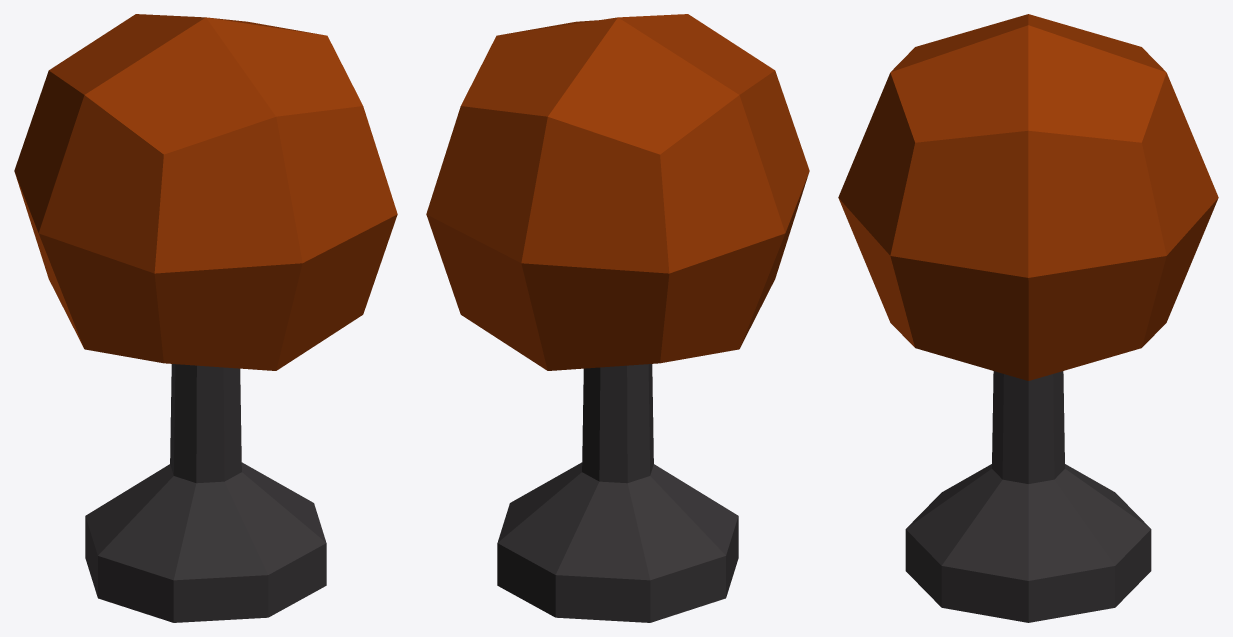
File: hopper.fbx
3 renders of one model, left to right at view 1: azimuth 30°, elevation 25°; view 2: azimuth 150°, elevation 25°; view 3: azimuth 270°, elevation 25°, orthographic.
Visible parts, largest first — view 1: Body Material, Foot Material; view 2: Body Material, Foot Material; view 3: Body Material, Foot Material.
Part boxes in pixels (x1,y1,x2,y2): Body Material: (14,14,397,370); Foot Material: (85,364,326,622); Body Material: (426,14,809,370); Foot Material: (497,364,738,622); Body Material: (838,14,1218,380); Foot Material: (905,371,1151,622).
Size of the model in its own units: 93.03 by 147 by 93.03.
